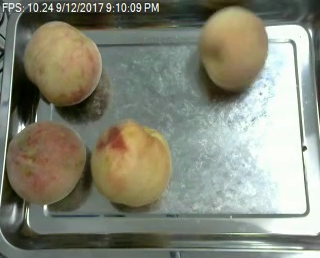Peach: (91, 119, 172, 207), (5, 119, 86, 205), (23, 20, 102, 106), (198, 5, 268, 92)
